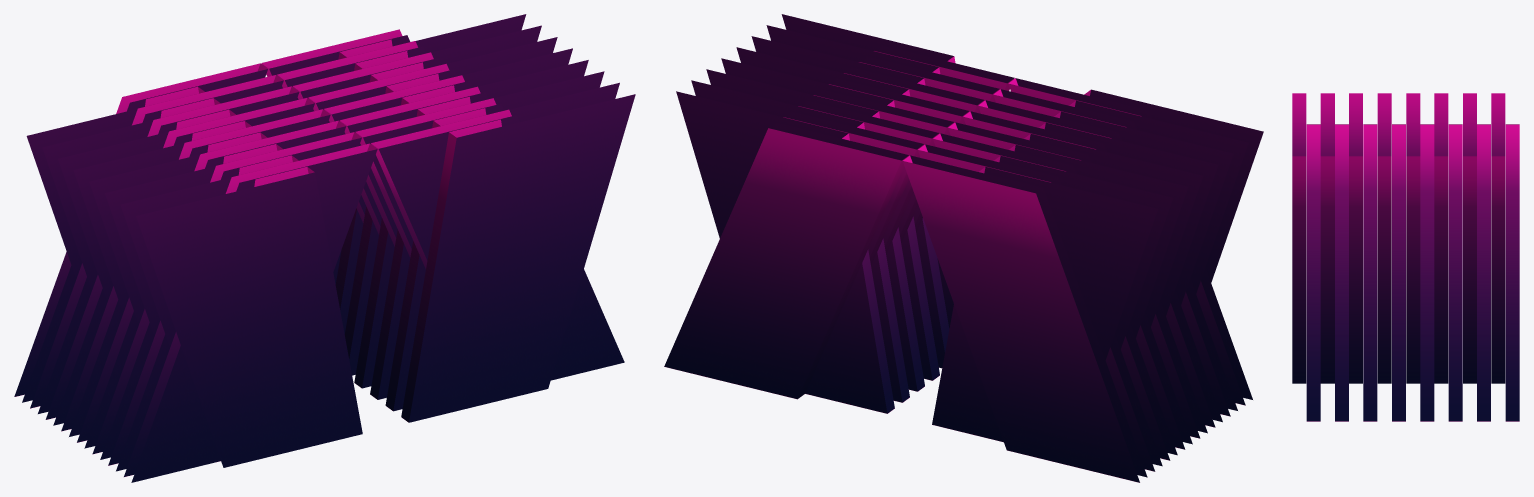
File: outher_tonnel_003.fbx
The picture shows the model from 3 angles, left to right: view 1: azimuth 30°, elevation 25°; view 2: azimuth 150°, elevation 25°; view 3: azimuth 270°, elevation 25°; orthographic projection. The views are drawn at different scales.
Parts seen in each view (by area): view 1: outher_tonnel_003; view 2: outher_tonnel_003; view 3: outher_tonnel_003.
Boxes of the visible parts, bbox=[...] form: outher_tonnel_003: bbox=[14, 14, 635, 482]; outher_tonnel_003: bbox=[664, 14, 1263, 482]; outher_tonnel_003: bbox=[1292, 93, 1519, 421].
Size of the model in its own units: 185 by 96.76 by 80.05.
